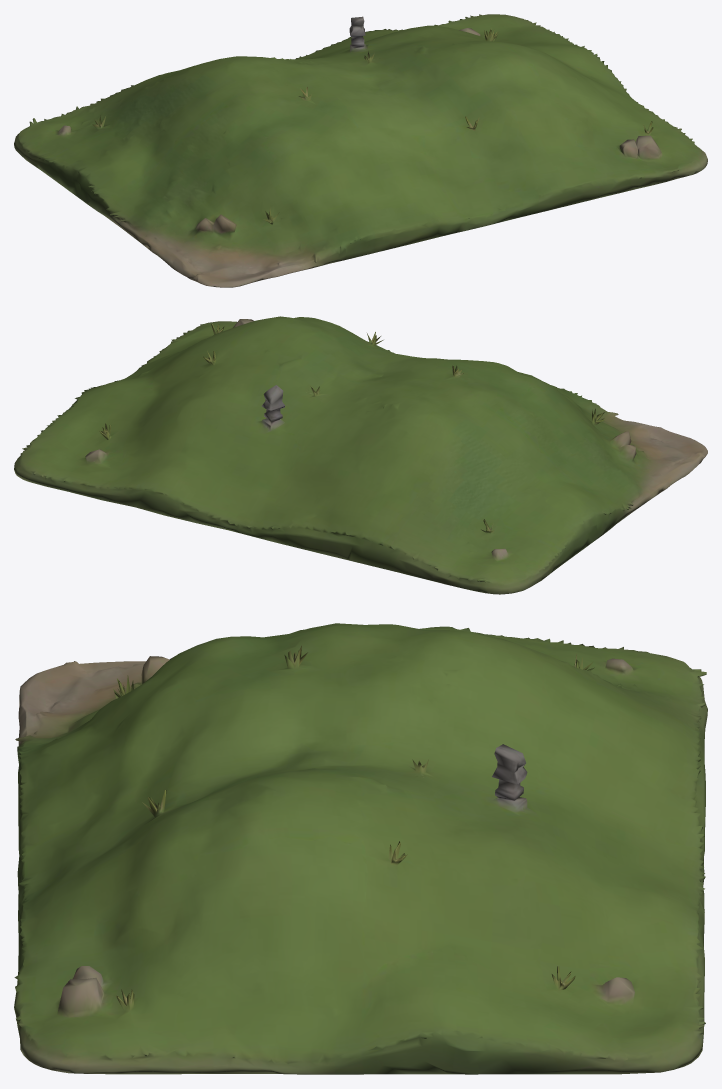
The model's file is journey_hill.glb.
The picture shows the model from 3 angles, top to bottom: view 1: azimuth 30°, elevation 25°; view 2: azimuth 150°, elevation 25°; view 3: azimuth 270°, elevation 25°; orthographic projection. The views are drawn at different scales.
Parts seen in each view (by area): view 1: tripo_node_92b68499-4480-4b08-ad9b-b5ba5ae0b16a; view 2: tripo_node_92b68499-4480-4b08-ad9b-b5ba5ae0b16a; view 3: tripo_node_92b68499-4480-4b08-ad9b-b5ba5ae0b16a.
Boxes of the visible parts, bbox=[...] form: tripo_node_92b68499-4480-4b08-ad9b-b5ba5ae0b16a: bbox=[14, 14, 707, 287]; tripo_node_92b68499-4480-4b08-ad9b-b5ba5ae0b16a: bbox=[14, 316, 707, 594]; tripo_node_92b68499-4480-4b08-ad9b-b5ba5ae0b16a: bbox=[14, 623, 707, 1074].
Bounding box in the file's own units: 1 × 0.1904 × 0.7119.
Materials: 1 (1 with a texture image).
